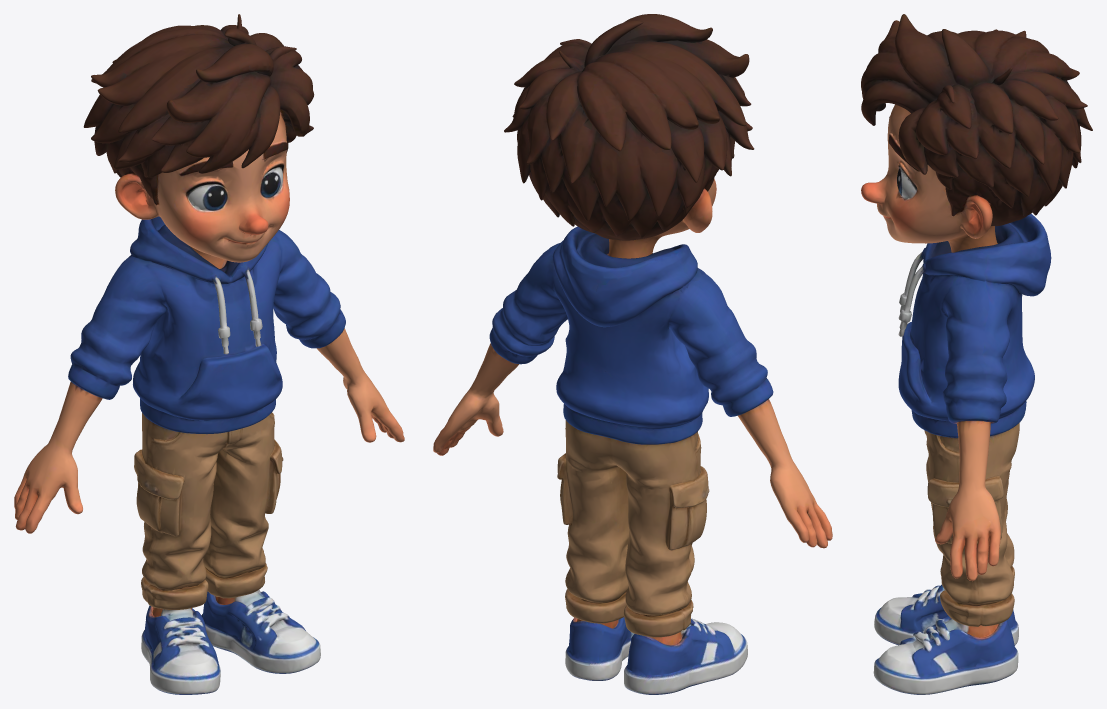
Rendered from avatar-hoodie-cargo.glb.
3 views of the same model, side by side, from view 1: azimuth 30°, elevation 25°; view 2: azimuth 150°, elevation 25°; view 3: azimuth 270°, elevation 25° (orthographic). The views are drawn at different scales.
Visible parts, largest first — view 1: avatar-hoodie-cargo-mesh; view 2: avatar-hoodie-cargo-mesh; view 3: avatar-hoodie-cargo-mesh.
Boxes of the visible parts, left/top/right/bottom form: avatar-hoodie-cargo-mesh: left=14, top=14, right=404, bottom=694; avatar-hoodie-cargo-mesh: left=433, top=14, right=832, bottom=694; avatar-hoodie-cargo-mesh: left=861, top=14, right=1092, bottom=694.
Size of the model in its own units: 0.9523 by 1.5 by 0.4976.
1 material, 1 textured.
